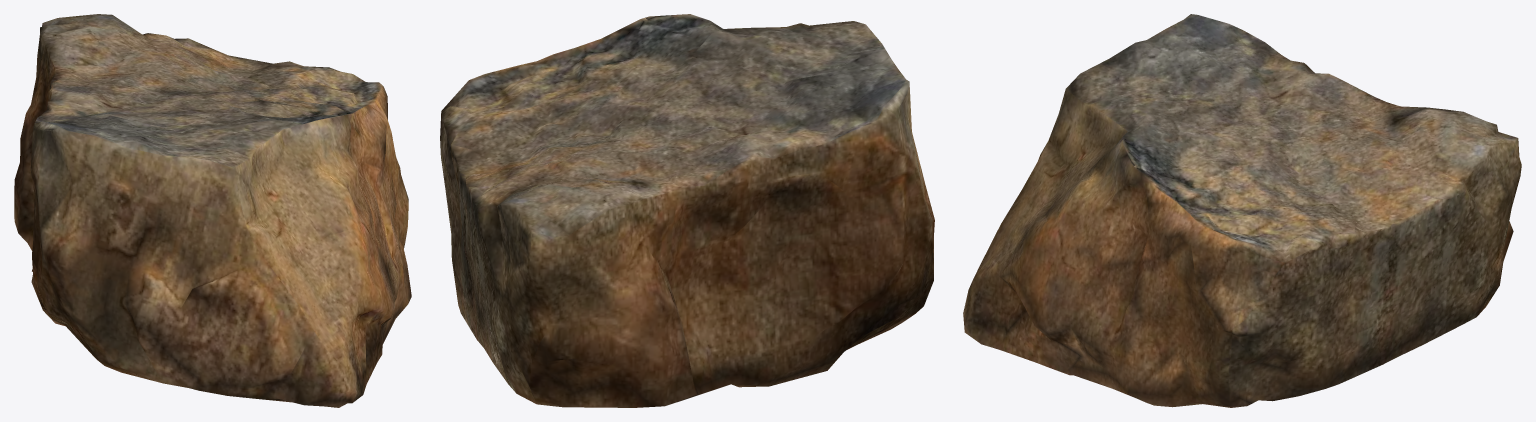
File: boulder_03.glb
3 renders of one model, left to right at view 1: azimuth 30°, elevation 25°; view 2: azimuth 150°, elevation 25°; view 3: azimuth 270°, elevation 25°, orthographic. The views are drawn at different scales.
Visible parts, largest first — view 1: boulder_03_LOD0; view 2: boulder_03_LOD0; view 3: boulder_03_LOD0.
Boxes of the visible parts, <box> form: boulder_03_LOD0: <box>14,14,411,407</box>; boulder_03_LOD0: <box>440,14,934,407</box>; boulder_03_LOD0: <box>963,14,1521,407</box>.
Size of the model in its own units: 2.4 by 1.47 by 3.06.
1 material, 1 textured.
